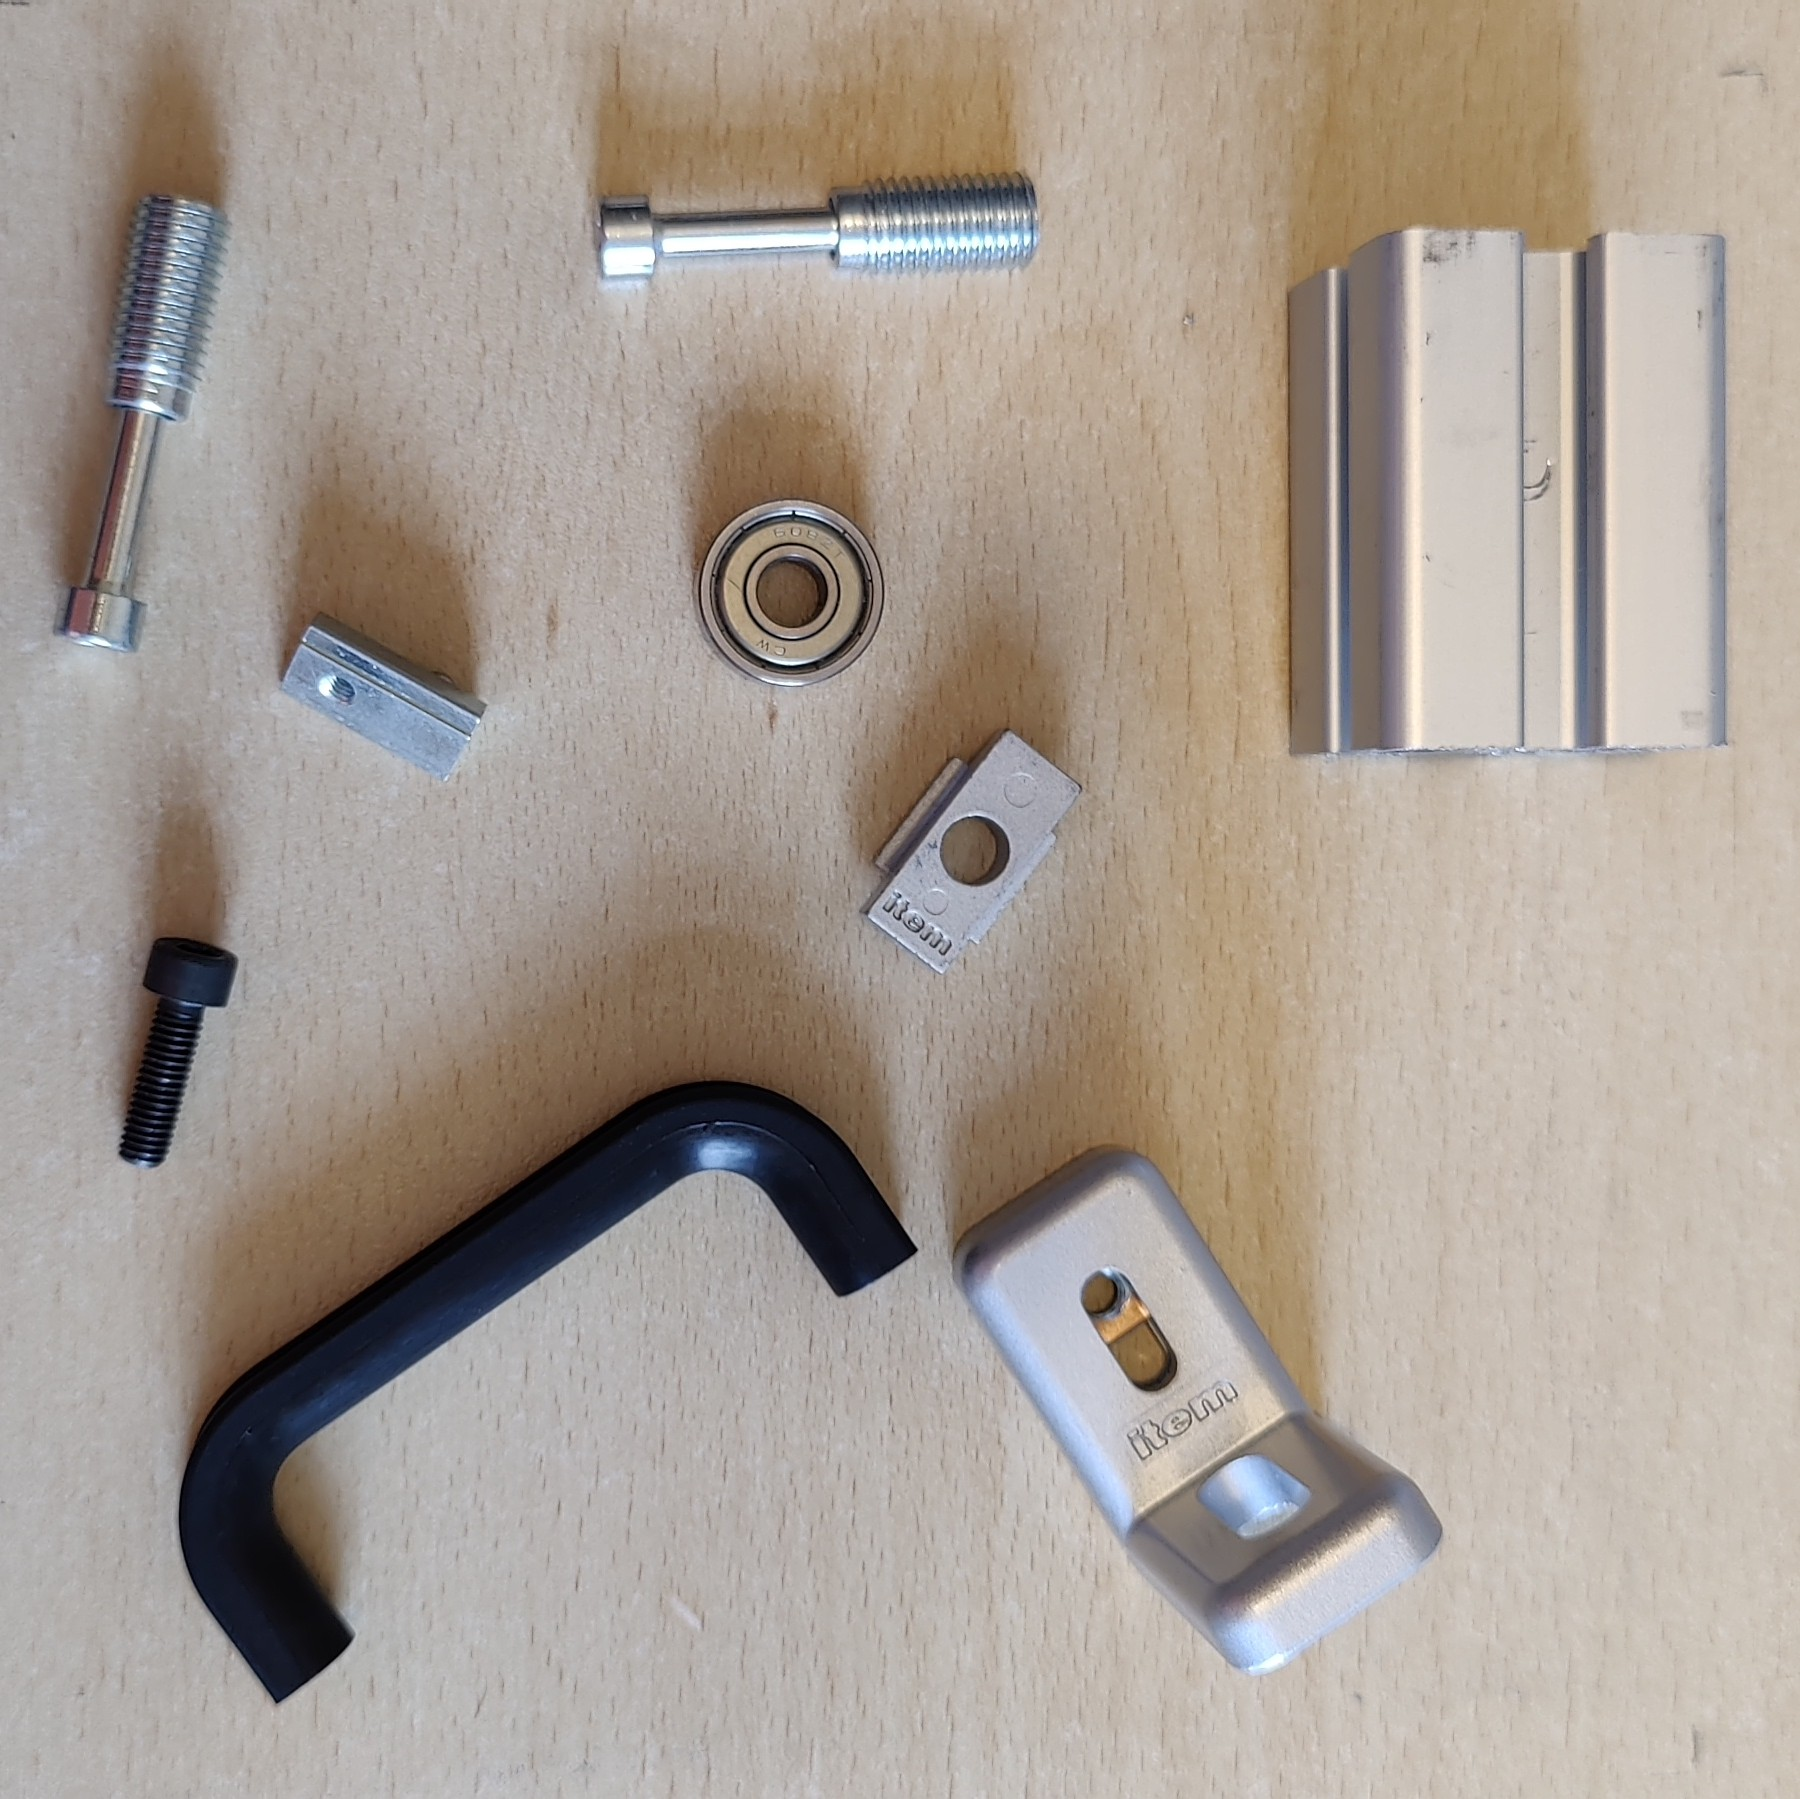Aluminium Extension: (1280, 222, 1731, 761)
Ball Bearing: (690, 494, 884, 690)
Multiwinkel: (947, 1143, 1443, 1675)
Pull Handle: (176, 1077, 922, 1708)
Shoulder Socket Head Cap Screw: (51, 191, 235, 657), (588, 165, 1044, 285)
Socket Head Cap Screw: (115, 932, 240, 1173)
T Nut Square: (855, 730, 1085, 980)
T Spring Nut: (277, 610, 492, 784)
